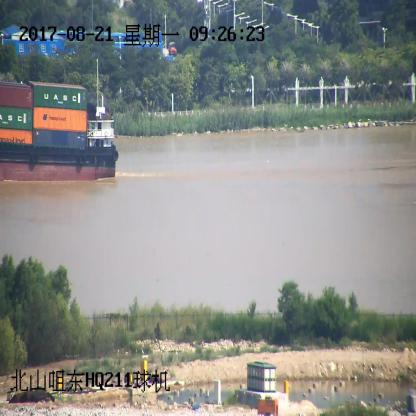Container Ship: (0, 59, 118, 183)
